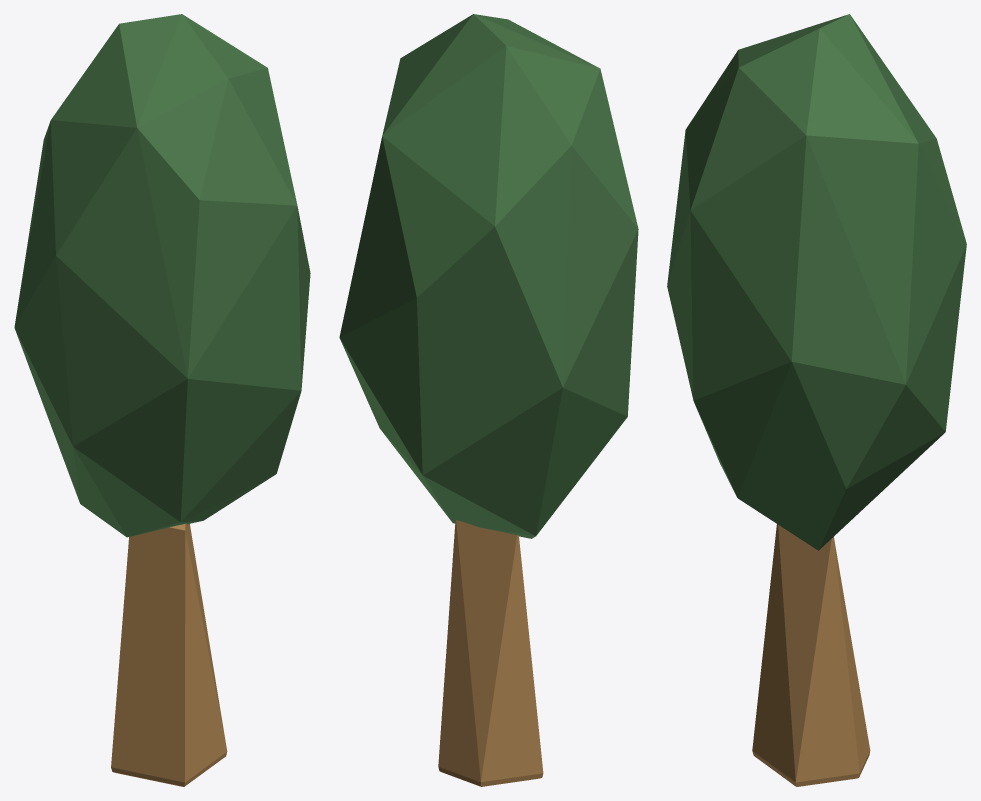
File: moyen_arbre_02.glb
The picture shows the model from 3 angles, left to right: view 1: azimuth 30°, elevation 25°; view 2: azimuth 150°, elevation 25°; view 3: azimuth 270°, elevation 25°; orthographic projection.
Parts seen in each view (by area): view 1: Sphere.001, Cylinder.001; view 2: Sphere.001, Cylinder.001; view 3: Sphere.001, Cylinder.001.
Boxes of the visible parts, x1,y1,x2,y2 form: Sphere.001: (14,14,310,537); Cylinder.001: (111,523,227,786); Sphere.001: (339,14,638,538); Cylinder.001: (438,519,543,786); Sphere.001: (667,14,966,550); Cylinder.001: (752,524,870,786).
Size of the model in its own units: 3.43 by 9.4 by 3.43.
